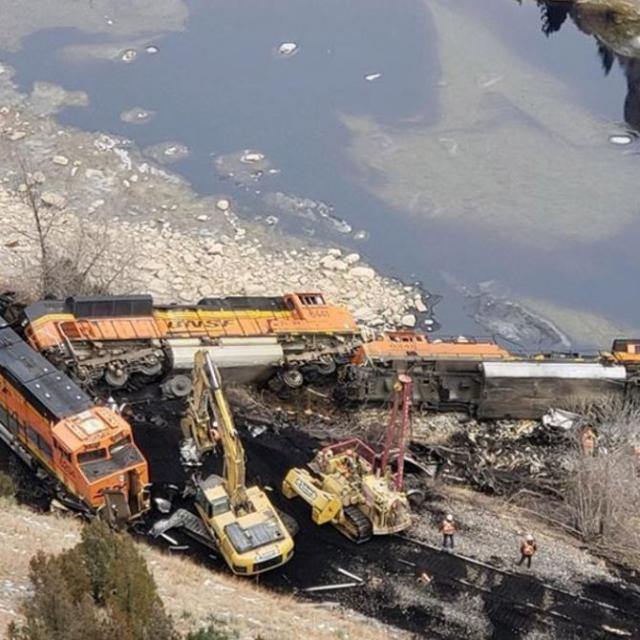traffic_incident: (19, 292, 638, 409)
